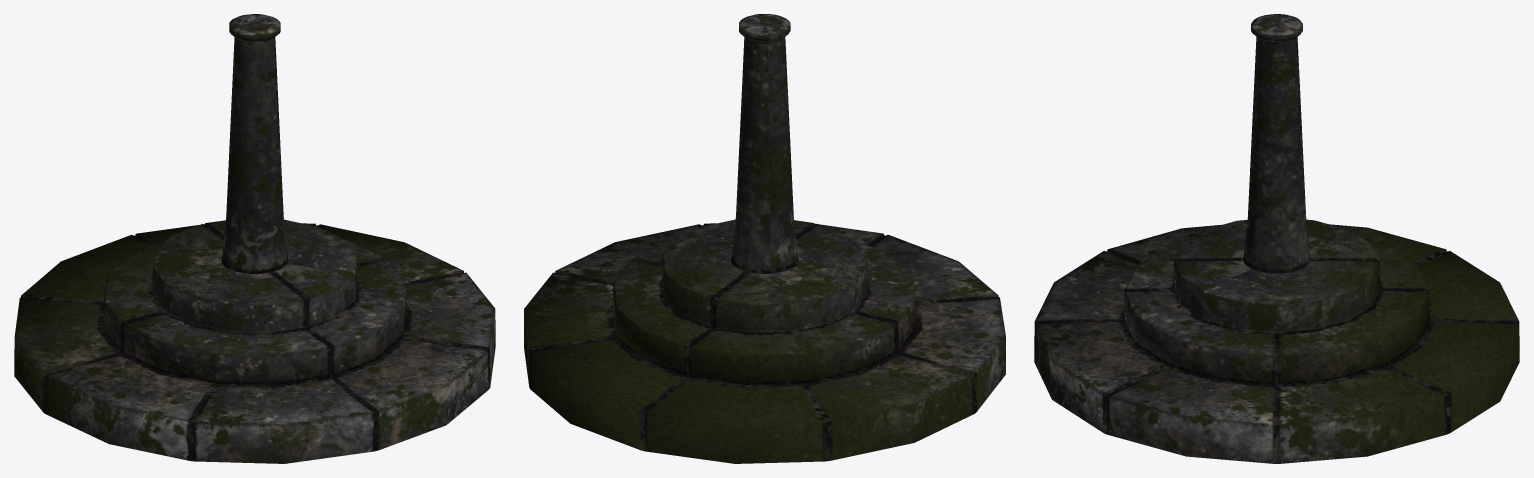
3 views of the same model, side by side, from view 1: azimuth 30°, elevation 25°; view 2: azimuth 150°, elevation 25°; view 3: azimuth 270°, elevation 25° (orthographic).
Visible parts, largest first — view 1: Cylinder; view 2: Cylinder; view 3: Cylinder.
Part boxes in pixels (box(x1,y1,x2,y2)): Cylinder: box(14, 14, 495, 463); Cylinder: box(524, 14, 1005, 463); Cylinder: box(1034, 14, 1519, 463).
Size of the model in its own units: 224 by 172 by 224.
1 material, 1 textured.
